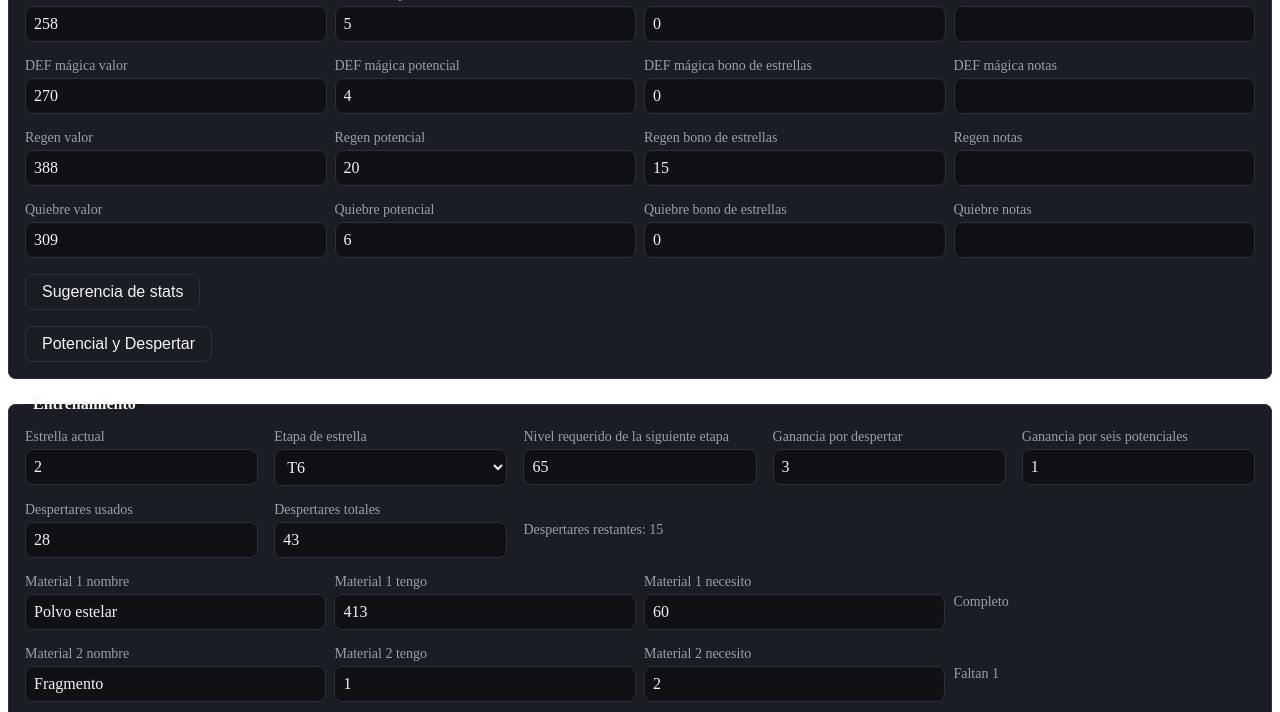
Test: cupo de Despertar › despues de usarlo el resultado queda desactualizado
(page scrolled)
Click the button "Potencial y Despertar": (118, 344) [25, 326, 212, 362]
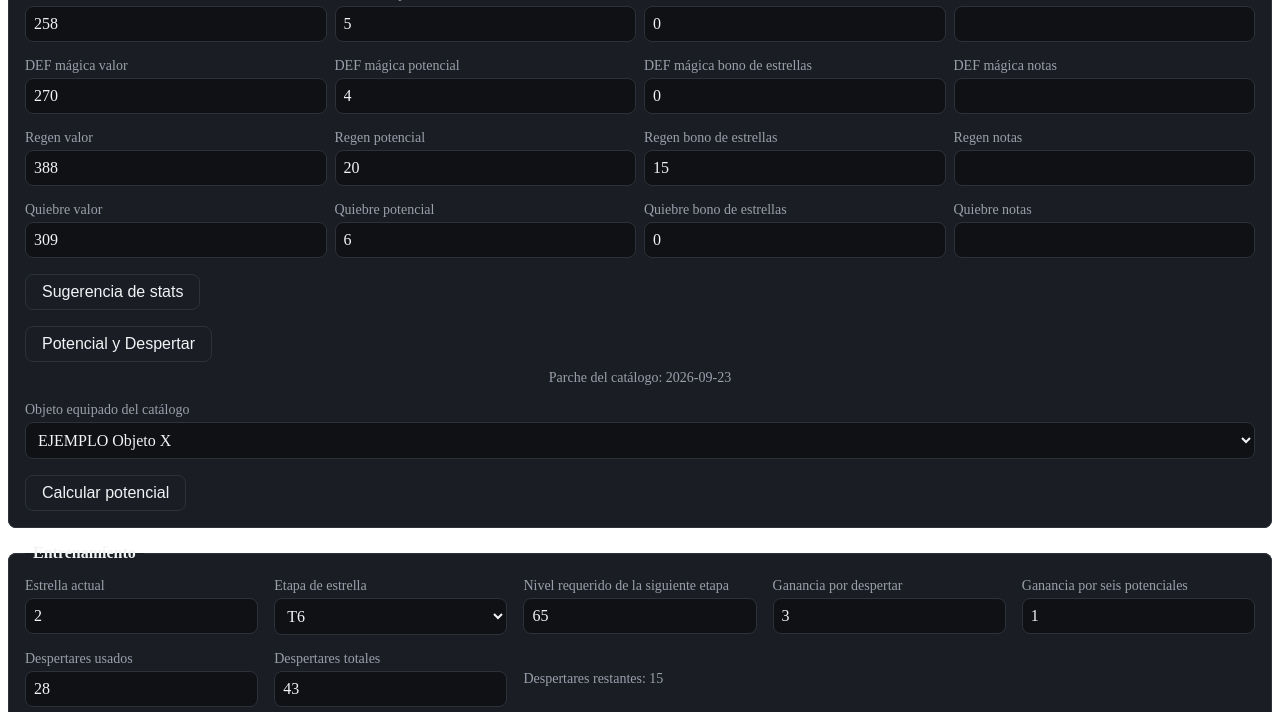
Check: the button "Calcular potencial" is shown
Click the button "Calcular potencial": (106, 493) [25, 475, 186, 511]
(page scrolled)
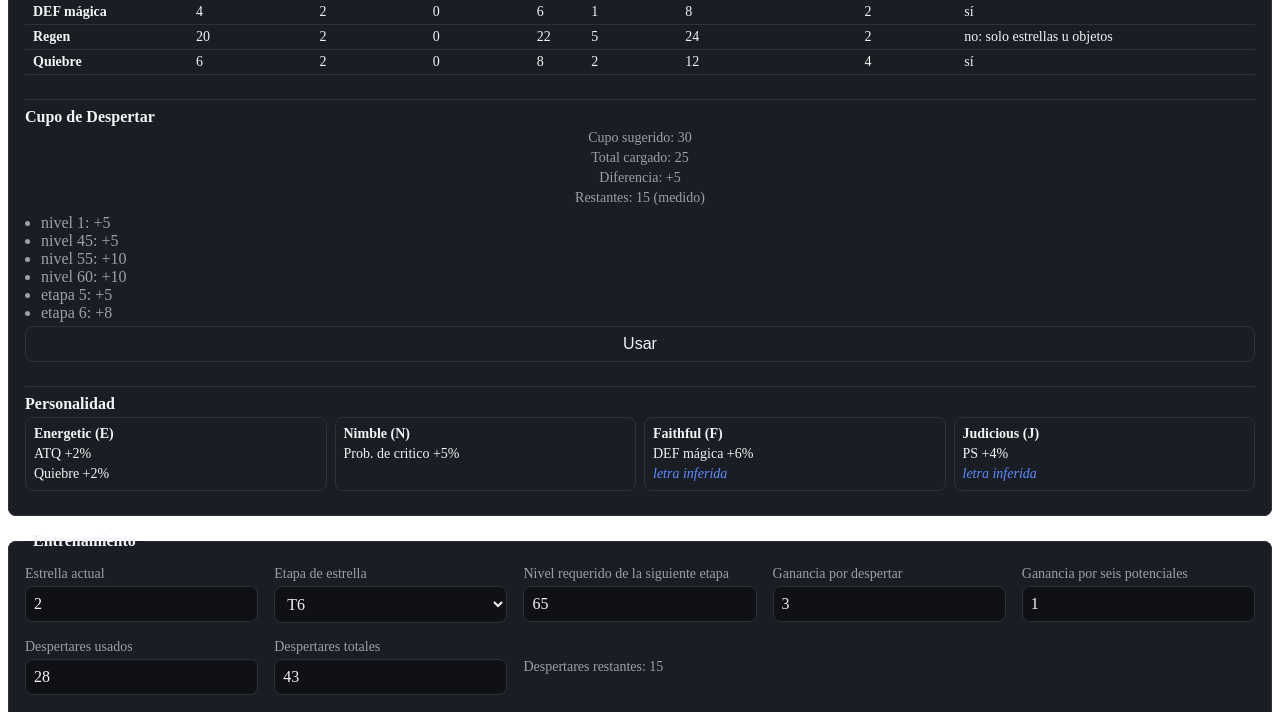
Click the button with aria-label "Usar cupo sugerido": (640, 344) [25, 326, 1255, 362]
(page scrolled)
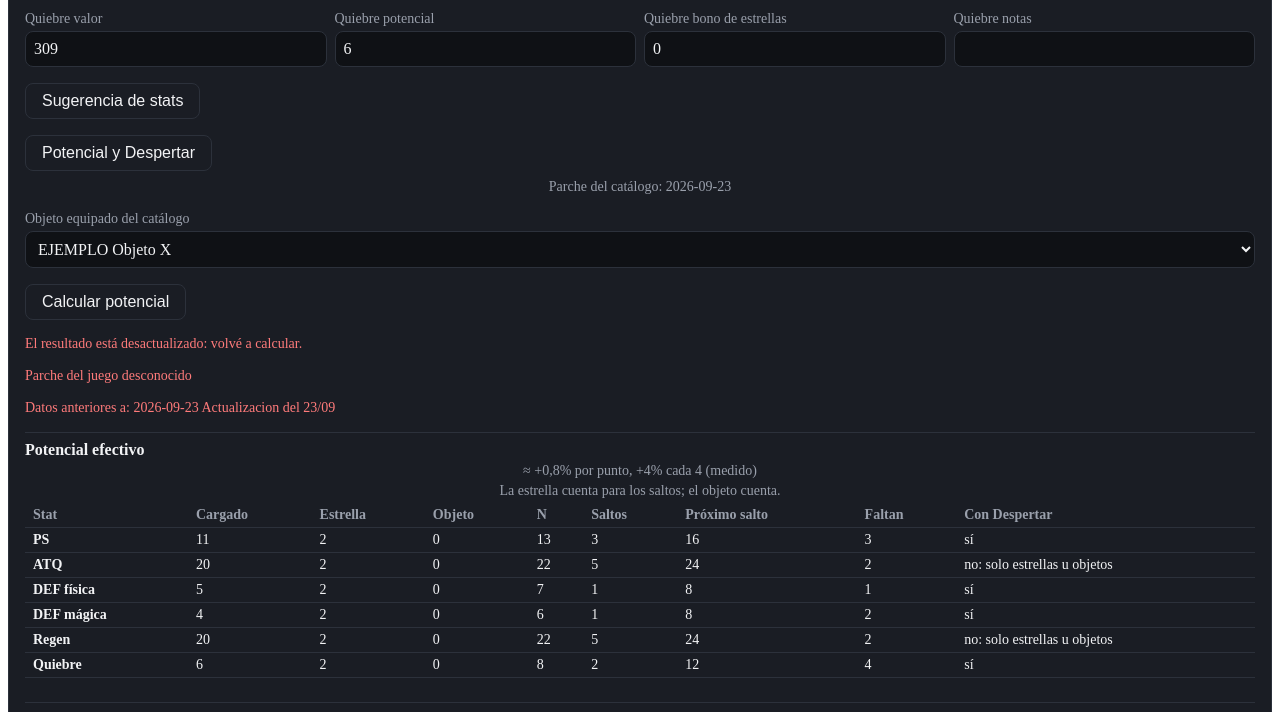
Check: the text "El resultado está desactualizado: volvé a calcular." is shown, box [25, 336, 302, 351]
